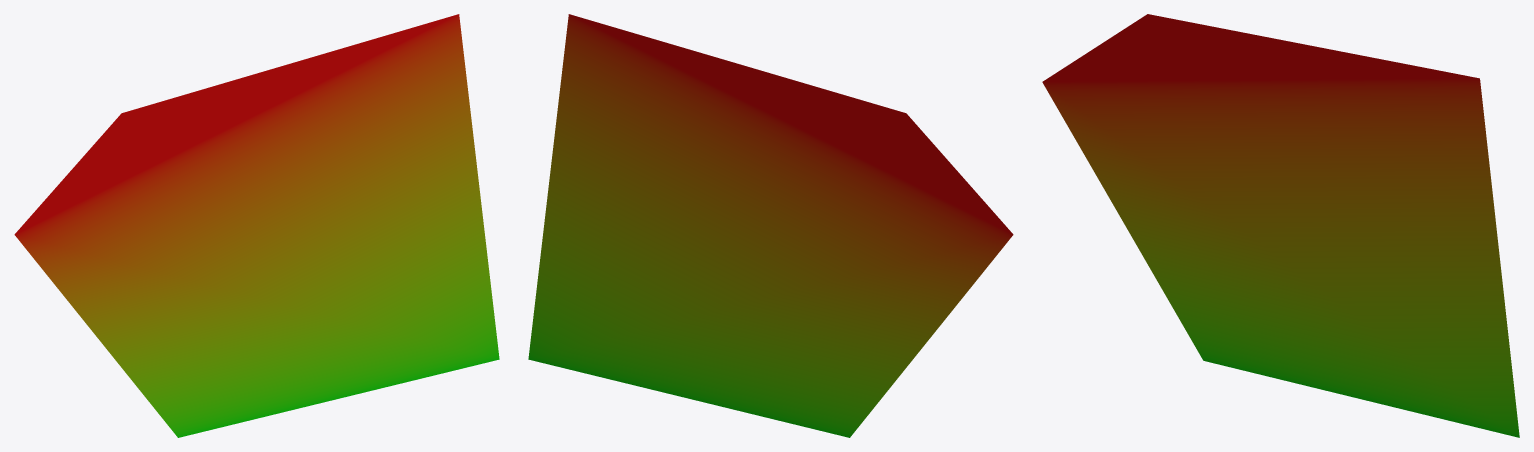
File: Sea Wheatgrass_LOD3_Var21_ui2oagjia.fbx
3 renders of one model, left to right at view 1: azimuth 30°, elevation 25°; view 2: azimuth 150°, elevation 25°; view 3: azimuth 330°, elevation 25°, orthographic.
Visible parts, largest first — view 1: _v5y3_Var21_LOD3; view 2: _v5y3_Var21_LOD3; view 3: _v5y3_Var21_LOD3.
Part boxes in pixels (bbox=[...]): _v5y3_Var21_LOD3: bbox=[14, 14, 499, 437]; _v5y3_Var21_LOD3: bbox=[528, 14, 1013, 437]; _v5y3_Var21_LOD3: bbox=[1042, 14, 1519, 437].
Size of the model in its own units: 35.09 by 24.57 by 1.07e-06.
